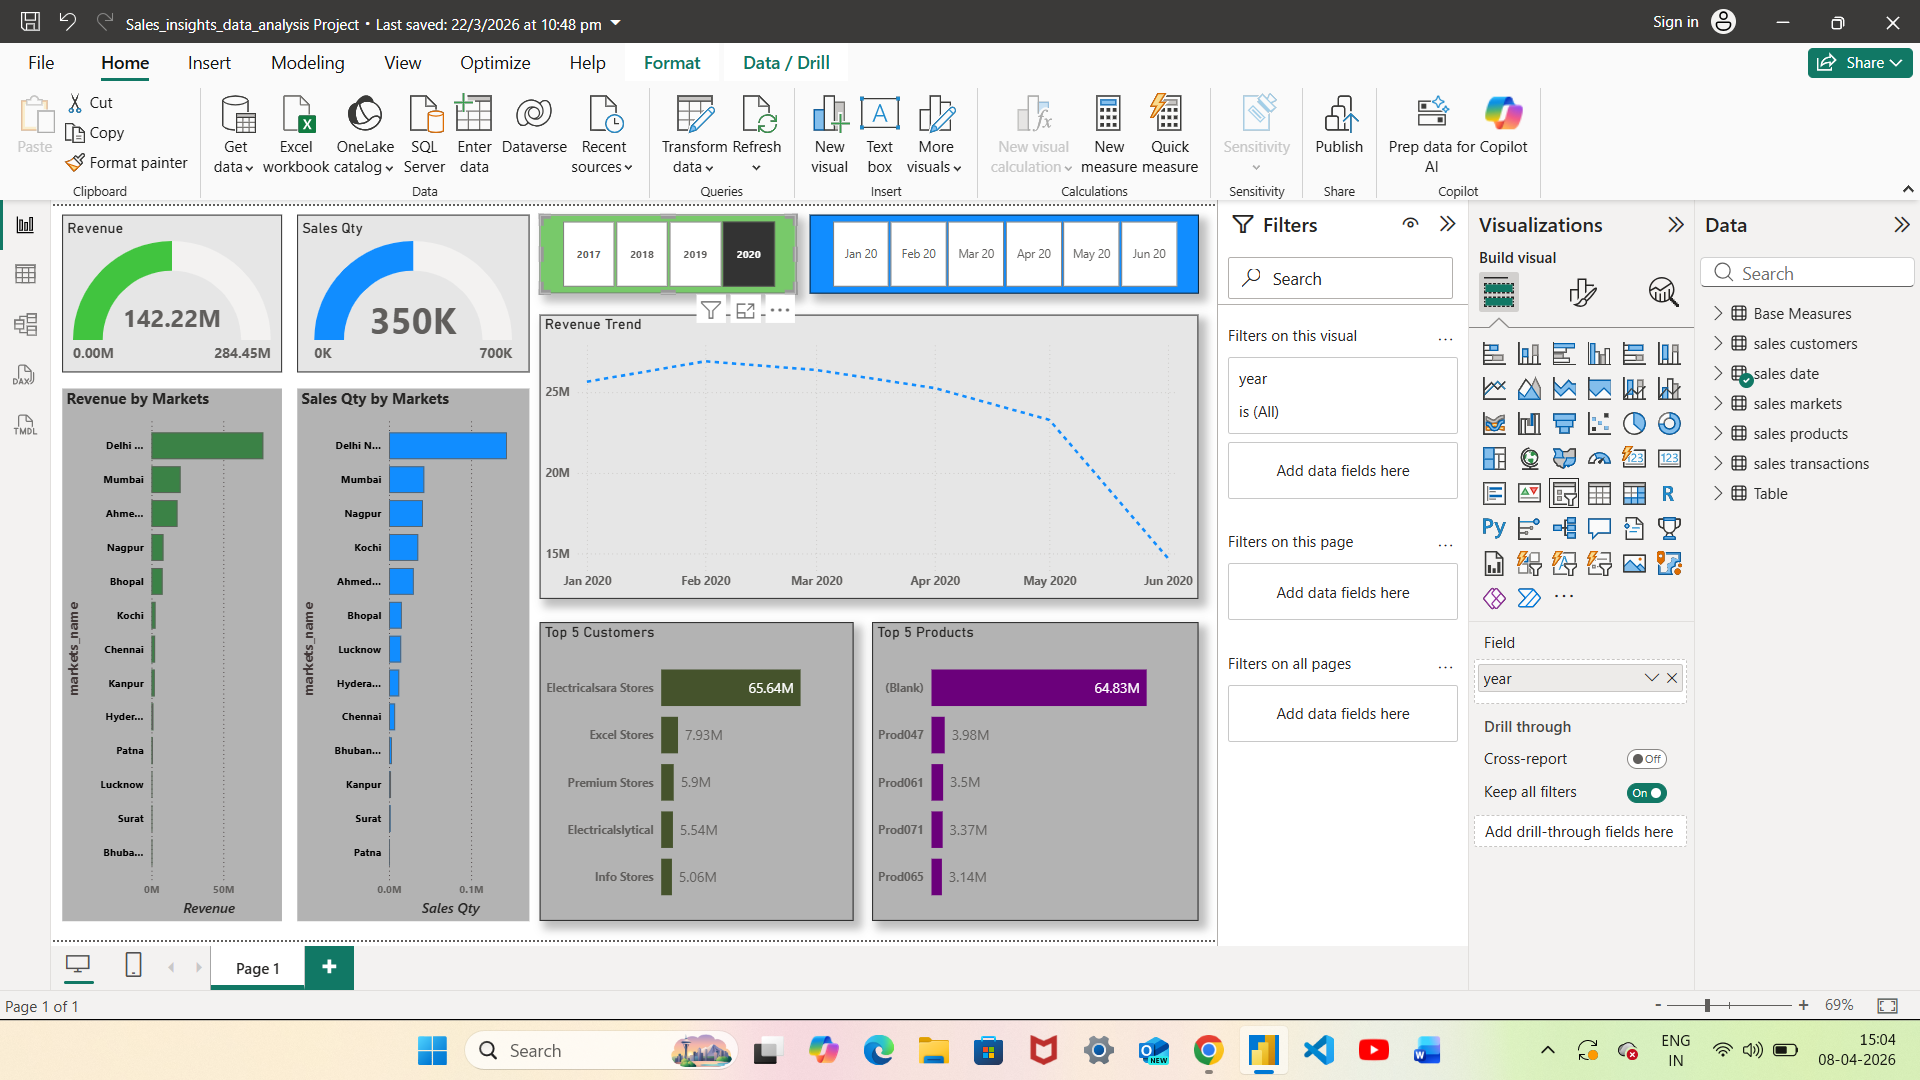

The page's visual inventory and layout, read from the dashboard file:
{"tool":"powerbi","page":{"name":"Page 1","canvas":[1350,850],"ordinal":0},"visuals":[{"type":"slicer","fields":{"Values":["sales date.year"]},"box":[565.9,10.1,296.7,91.2],"z":0},{"type":"slicer","fields":{"Values":["sales date.cy_date"]},"box":[878.5,10.1,450.1,91.2],"z":1000},{"type":"barChart","title":"Top 5 Customers","fields":{"Category":["sales customers.customer_name"],"Y":["Base Measures.Revenue"]},"box":[565.9,481.9,363.3,345.9],"z":2000},{"type":"lineChart","title":"Revenue Trend","fields":{"Y":["Base Measures.Revenue"],"Category":["sales date.cy_date"]},"box":[565.9,125.9,762.7,328.5],"z":3000},{"type":"barChart","title":"Revenue by Markets","fields":{"Category":["sales markets.markets_name"],"Y":["Base Measures.Revenue"]},"box":[13,211.3,254.7,616.5],"z":4000},{"type":"gauge","fields":{"Y":["Base Measures.Revenue"]},"box":[13,10.1,254.7,182.4],"z":5000},{"type":"gauge","fields":{"Y":["Base Measures.Sales Qty"]},"box":[285.1,10.1,269.2,182.4],"z":6000},{"type":"barChart","title":"Sales Qty by Markets","fields":{"Category":["sales markets.markets_name"],"Y":["Base Measures.Sales Qty"]},"box":[285.1,211.3,269.2,616.5],"z":7000},{"type":"barChart","title":"Top 5 Products","fields":{"Y":["Base Measures.Revenue"],"Category":["sales products.product_code"]},"box":[950.9,481.9,377.7,345.9],"z":8000}]}

Visuals, with their boxes on the page's 1350x850 design canvas (x1, y1, x2, y2). These are canvas units, not pixel positions in the 1920x1080 screenshot, which may show the page scaled, cropped or inside an application window:
slicer - sales date.year: bbox=[566, 10, 863, 101]
slicer - sales date.cy_date: bbox=[878, 10, 1329, 101]
"Top 5 Customers" barChart: bbox=[566, 482, 929, 828]
"Revenue Trend" lineChart: bbox=[566, 126, 1329, 454]
"Revenue by Markets" barChart: bbox=[13, 211, 268, 828]
gauge - Base Measures.Revenue: bbox=[13, 10, 268, 192]
gauge - Base Measures.Sales Qty: bbox=[285, 10, 554, 192]
"Sales Qty by Markets" barChart: bbox=[285, 211, 554, 828]
"Top 5 Products" barChart: bbox=[951, 482, 1329, 828]
